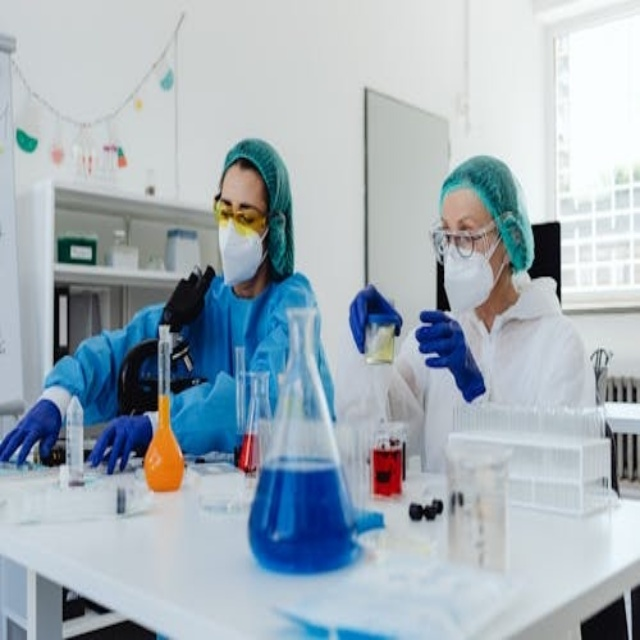Gafas: (430, 218, 506, 262), (214, 198, 275, 238)
Guantes: (416, 311, 487, 404), (0, 399, 63, 466), (86, 413, 153, 473), (349, 284, 402, 354)
Mascara: (439, 229, 505, 314), (217, 212, 271, 285)
